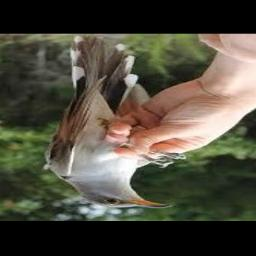Cuckoo: (45, 36, 182, 208)
